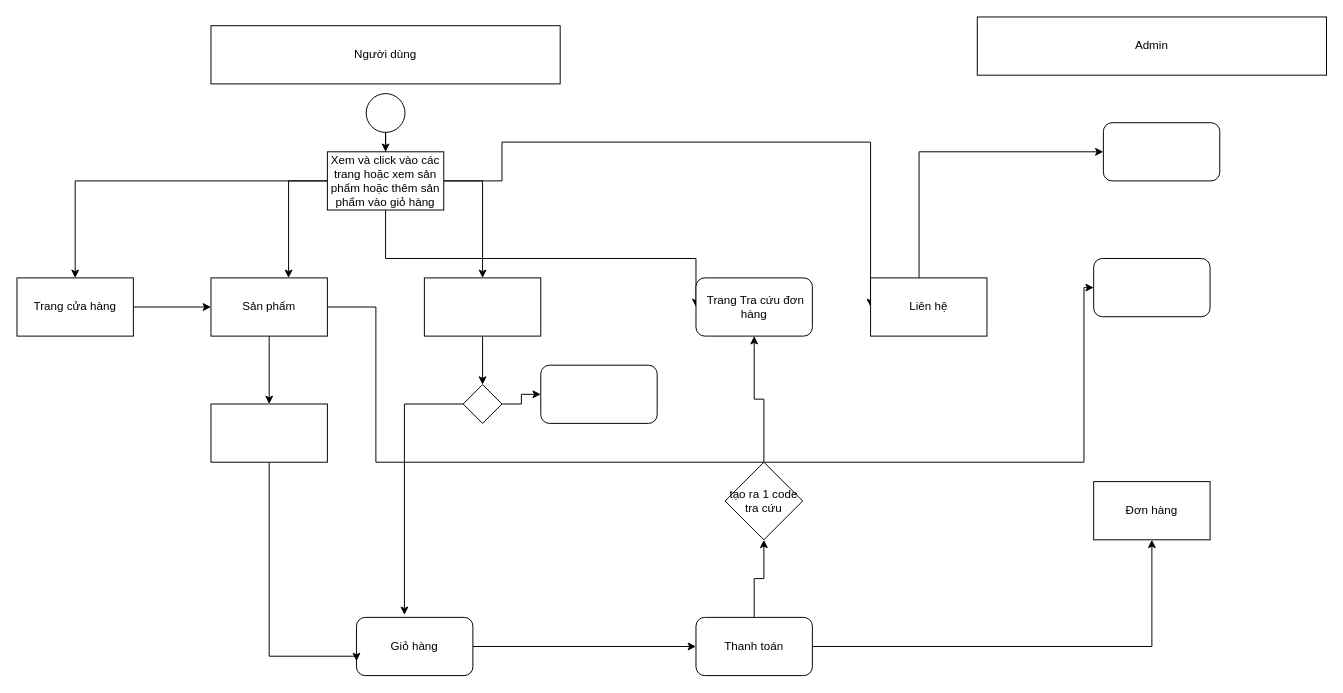
The diagram is 1343 pixels wide and 693 high, and some of its shapes have lost their labels. The centre of each missing label's shape, as x and y in pixels:
Gửi liên hệ lên Admin: pixel 1161 151
Thêm sản phẩm vào giỏ hàng: pixel 268 432
Trang giới thiệu: pixel 598 393
Trang khác: pixel 482 306
Đánh giá sản phẩm: pixel 1151 287
